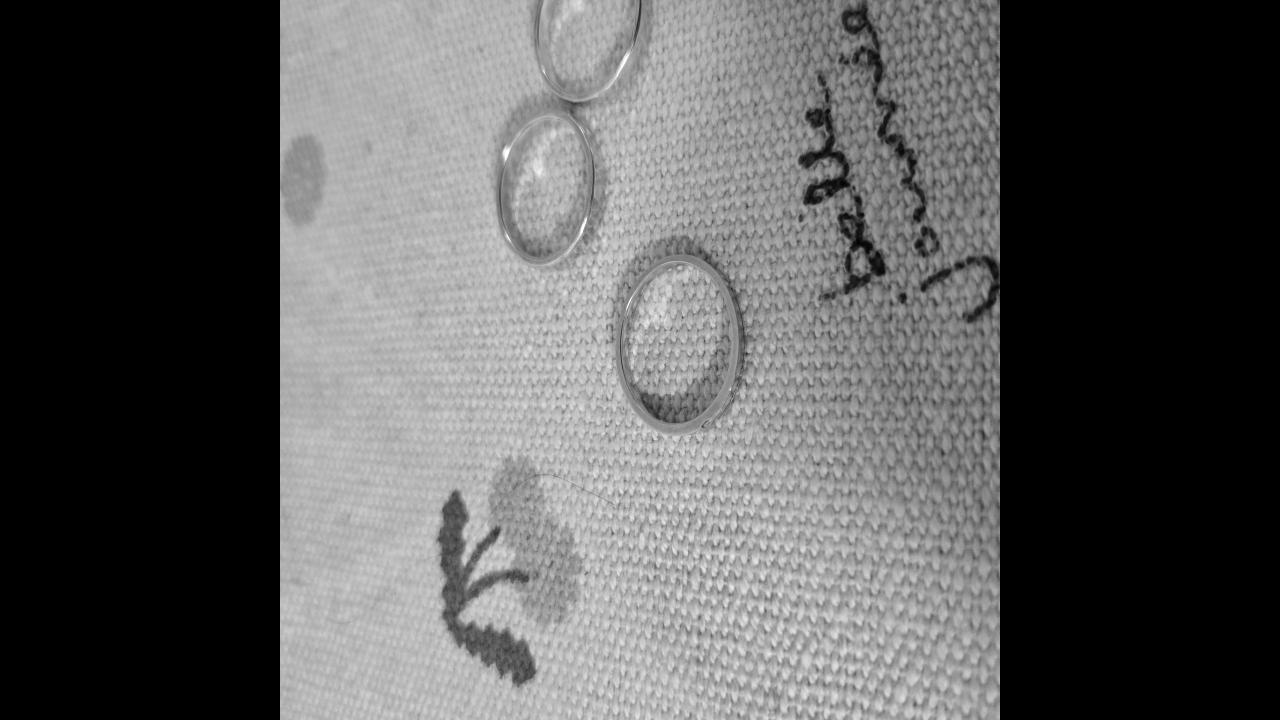ring: (616, 263, 744, 437), (496, 109, 604, 266), (534, 0, 644, 104)
